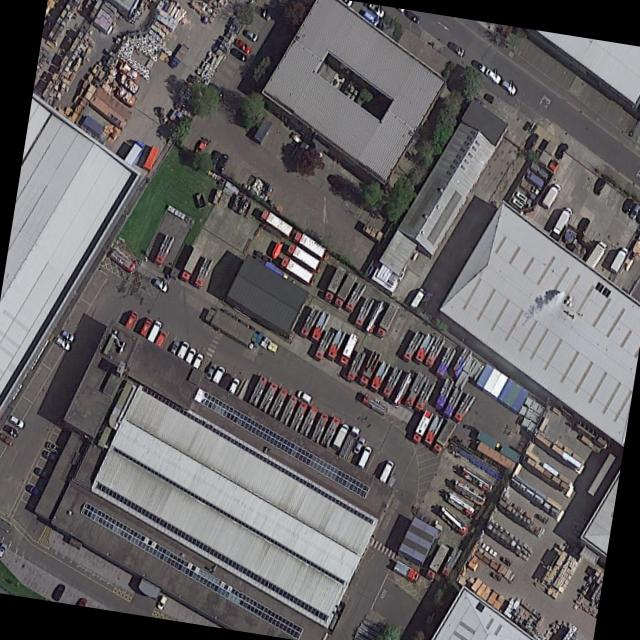large-vehicle: (278, 255, 316, 289), (285, 243, 324, 275), (257, 208, 294, 241), (291, 230, 329, 262), (435, 505, 469, 539), (321, 264, 348, 303), (178, 245, 204, 285), (390, 369, 416, 408), (402, 371, 428, 410), (361, 298, 387, 336), (357, 349, 383, 387), (459, 466, 493, 495), (442, 491, 476, 520), (332, 271, 357, 310), (374, 302, 400, 339), (451, 480, 486, 507), (431, 418, 457, 454), (336, 426, 361, 463), (351, 295, 376, 330), (317, 415, 341, 451), (448, 346, 474, 379), (343, 280, 367, 315), (297, 305, 321, 340), (368, 359, 392, 394), (106, 247, 137, 274), (246, 374, 269, 410), (308, 309, 331, 345), (413, 377, 436, 413), (337, 332, 359, 369), (380, 365, 403, 400), (452, 391, 477, 423), (152, 232, 174, 268), (411, 409, 433, 445), (423, 334, 446, 368), (422, 414, 445, 448), (433, 376, 455, 411), (584, 240, 608, 272), (296, 406, 319, 439), (256, 382, 279, 415), (277, 395, 300, 428), (401, 330, 424, 363), (412, 332, 435, 365), (433, 346, 456, 379), (391, 560, 421, 585), (308, 412, 330, 446), (266, 388, 289, 420), (287, 401, 309, 434), (313, 329, 335, 362), (325, 328, 347, 361), (345, 349, 367, 382), (360, 393, 390, 417), (539, 181, 562, 212), (551, 205, 573, 237), (192, 256, 213, 289), (608, 245, 630, 276), (441, 387, 463, 418), (123, 139, 146, 168), (329, 422, 350, 452), (168, 43, 190, 70), (407, 288, 427, 313), (122, 311, 140, 334)
small-vehicle: (356, 445, 372, 471), (146, 320, 162, 344), (378, 460, 394, 484), (523, 132, 539, 153), (214, 152, 229, 174), (139, 316, 153, 338), (254, 5, 272, 22), (234, 38, 251, 56), (499, 80, 517, 97), (484, 68, 502, 85), (447, 42, 465, 58), (7, 414, 25, 430), (176, 340, 190, 360), (204, 361, 218, 381), (52, 583, 66, 603), (230, 48, 247, 64), (554, 143, 569, 161), (403, 10, 421, 25), (32, 467, 50, 482), (25, 484, 43, 499), (40, 449, 58, 464), (211, 366, 225, 385), (192, 138, 206, 157), (207, 150, 220, 170), (352, 436, 365, 456), (54, 336, 70, 352), (296, 389, 312, 405), (152, 278, 168, 294), (621, 197, 635, 215), (227, 377, 240, 396), (592, 177, 605, 196), (44, 441, 61, 455), (154, 330, 167, 348), (184, 347, 197, 365), (577, 217, 590, 235), (191, 353, 204, 370), (243, 29, 258, 43), (59, 329, 74, 343), (471, 60, 486, 74), (3, 424, 18, 438), (155, 595, 168, 611), (0, 432, 13, 447), (168, 340, 180, 356), (629, 204, 640, 220), (0, 541, 7, 560), (634, 212, 640, 224)
